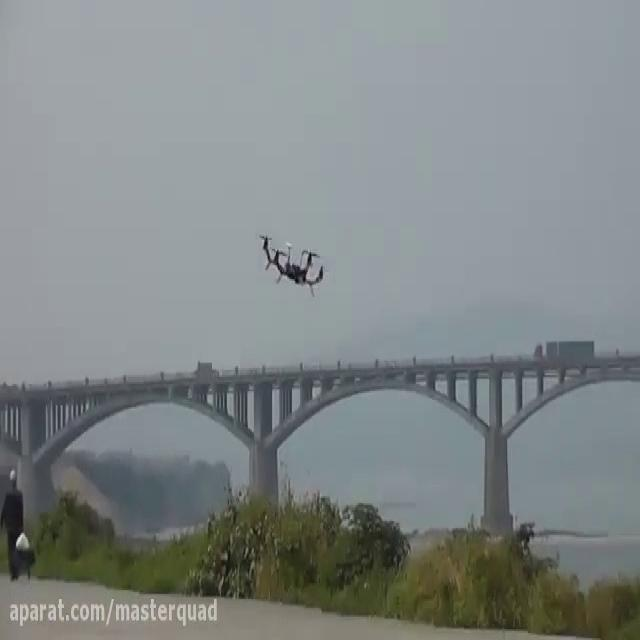drone: (253, 226, 330, 298)
